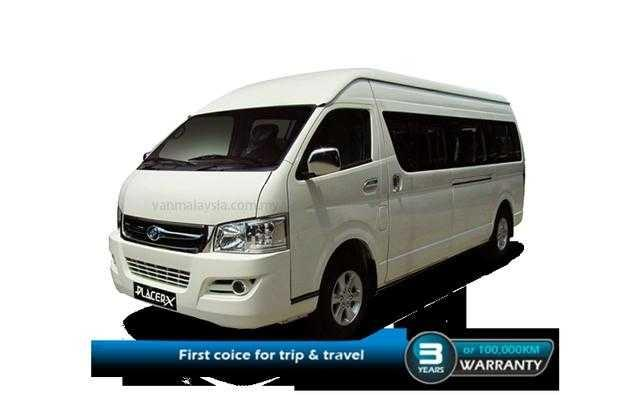car: (103, 67, 540, 366)
